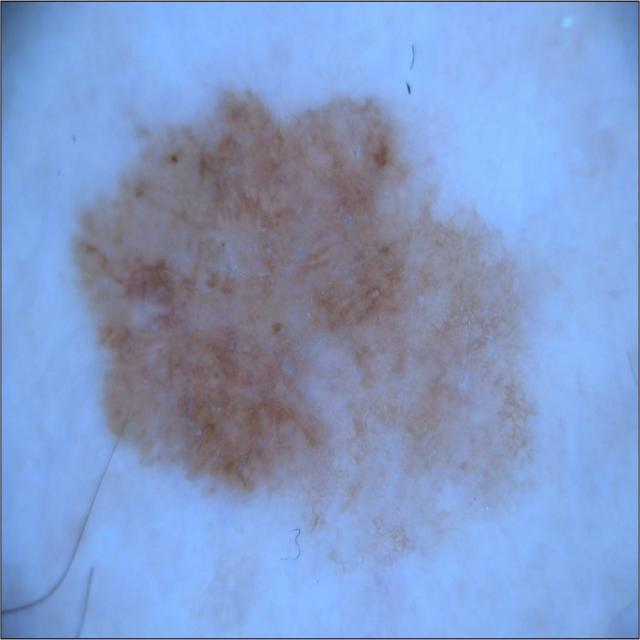Melanoma: (65, 76, 547, 570)
